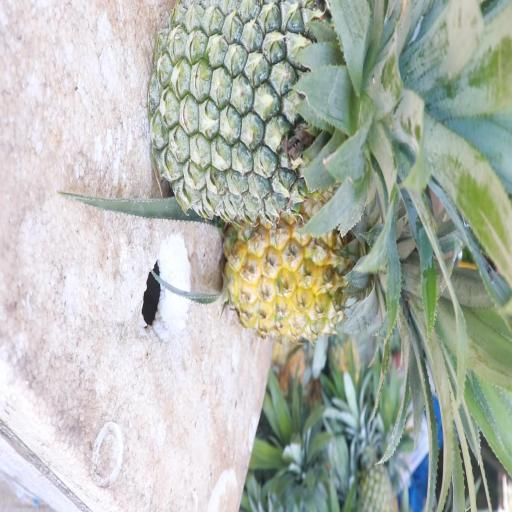Pineapple - v8 v1: (230, 214, 496, 411)
